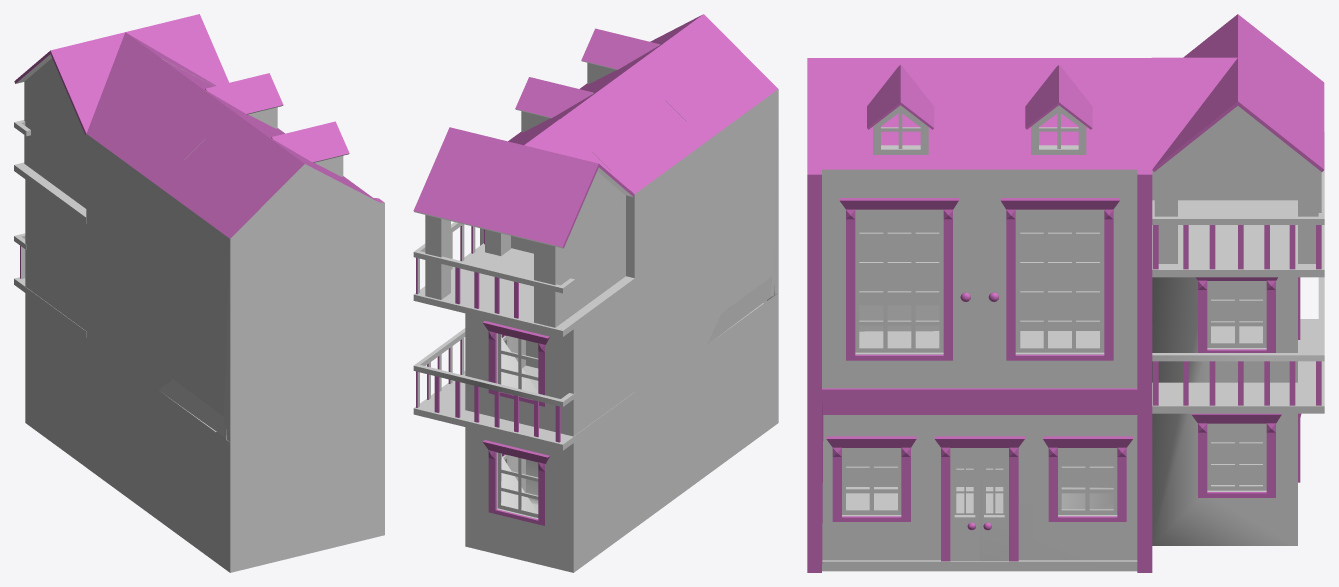
File: House.FBX
3 views of the same model, side by side, from view 1: azimuth 30°, elevation 25°; view 2: azimuth 150°, elevation 25°; view 3: azimuth 270°, elevation 25° (orthographic). The views are drawn at different scales.
Parts seen in each view (by area): view 1: house; view 2: house; view 3: house.
Part boxes in pixels (box(x1,y1,x2,y2)): house: box(14, 14, 384, 572); house: box(413, 14, 778, 572); house: box(807, 14, 1324, 572).
Size of the model in its own units: 583 by 1407 by 1405.
